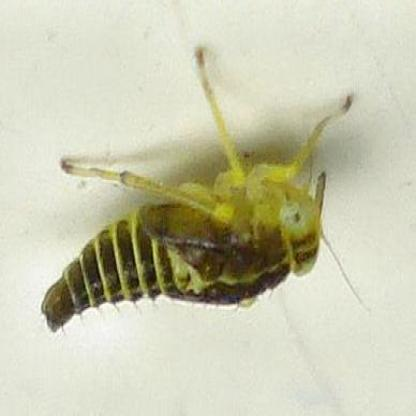green-leafhopper: (45, 121, 323, 340)
